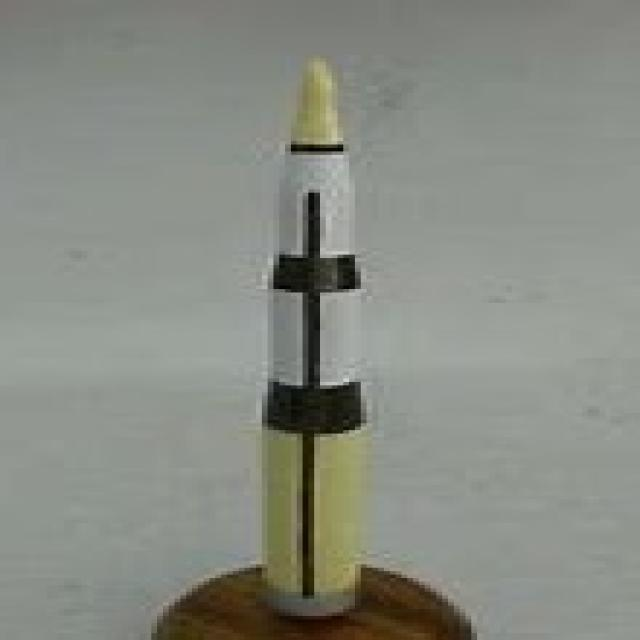missile: (262, 50, 362, 631)
